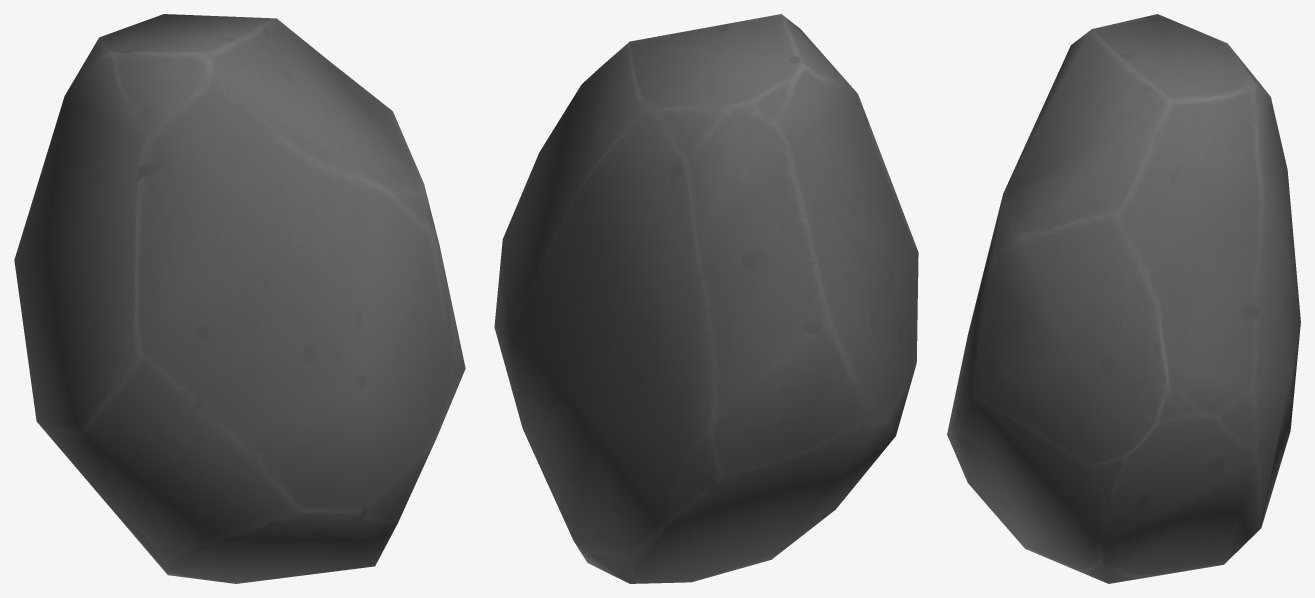
Rendered from rock03.glb.
3 views of the same model, side by side, from view 1: azimuth 30°, elevation 25°; view 2: azimuth 150°, elevation 25°; view 3: azimuth 270°, elevation 25° (orthographic). The views are drawn at different scales.
Visible parts, largest first — view 1: Rock03; view 2: Rock03; view 3: Rock03.
Part boxes in pixels (box(x1,y1,x2,y2)): Rock03: box(14, 14, 465, 583); Rock03: box(494, 14, 918, 583); Rock03: box(947, 14, 1300, 583).
Size of what is drawn, in the model's own units: 1.56 by 2.06 by 1.37.
Materials: 1 (1 with a texture image).
